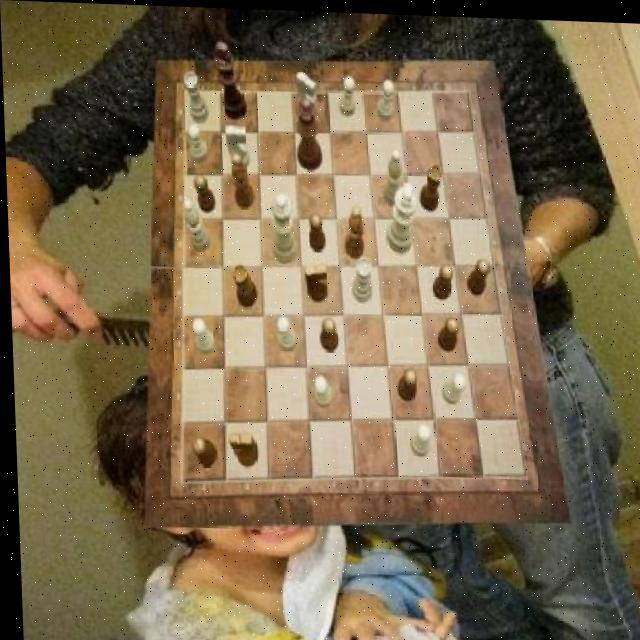bishop: (230, 151, 255, 206), (343, 204, 364, 258)
black-bishop: (213, 40, 248, 119)
black-king: (226, 431, 256, 466), (303, 261, 327, 300)
black-knight: (466, 255, 490, 293), (435, 314, 459, 349), (188, 434, 213, 466), (192, 172, 213, 210), (395, 365, 416, 400), (430, 262, 451, 297), (306, 212, 324, 251), (317, 315, 337, 350)
black-pawn: (295, 96, 321, 169)
black-queen: (418, 161, 443, 209), (230, 262, 256, 307)
black-rook: (182, 196, 208, 250), (381, 146, 403, 203)
white-bishop: (385, 179, 419, 250)
white-king: (223, 125, 249, 170), (296, 69, 317, 118)
white-knight: (189, 318, 213, 354), (439, 369, 464, 402), (406, 420, 429, 455), (188, 122, 208, 161), (376, 76, 394, 119), (275, 315, 296, 351), (337, 74, 355, 115), (312, 374, 331, 407)
white-pawn: (270, 191, 297, 260)
white-queen: (183, 70, 209, 121), (350, 255, 371, 301)
